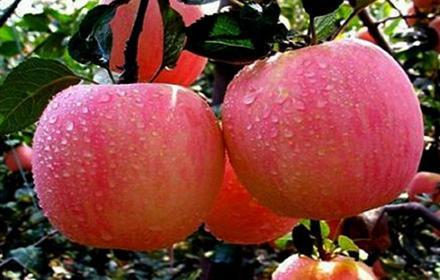apple: (219, 34, 425, 225), (31, 84, 238, 246)
